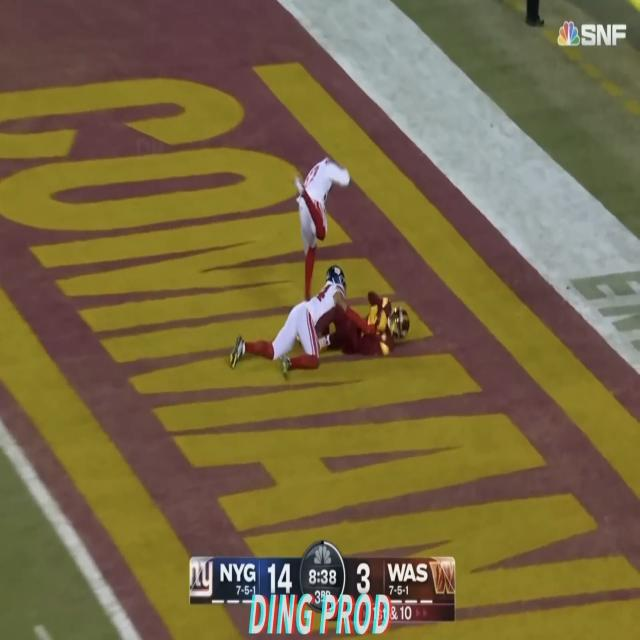players: (230, 261, 364, 380), (294, 146, 349, 290), (318, 286, 414, 359)
